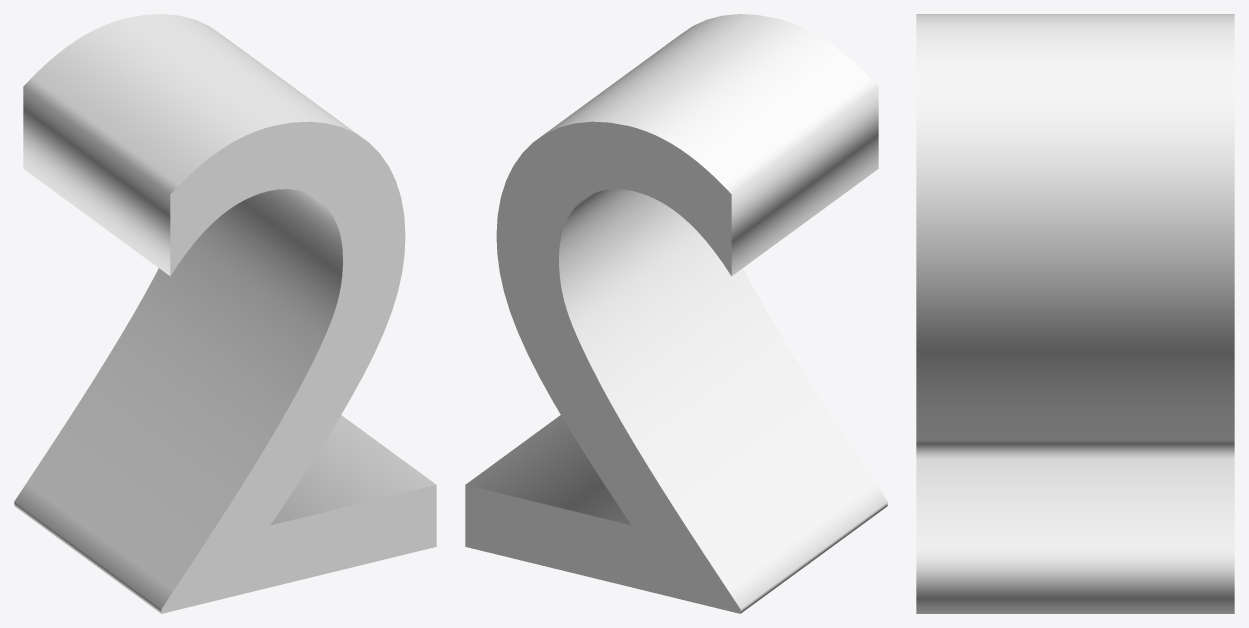
The picture shows the model from 3 angles, left to right: view 1: azimuth 30°, elevation 25°; view 2: azimuth 150°, elevation 25°; view 3: azimuth 270°, elevation 25°; orthographic projection. The views are drawn at different scales.
Parts seen in each view (by area): view 1: テキスト; view 2: テキスト; view 3: テキスト.
Boxes of the visible parts, x1,y1,x2,y2 form: テキスト: [14, 14, 436, 613]; テキスト: [465, 14, 887, 613]; テキスト: [916, 14, 1234, 613].
Size of the model in its own units: 0.1099 by 0.1758 by 0.1017.
Materials: 1 (1 with a texture image).
